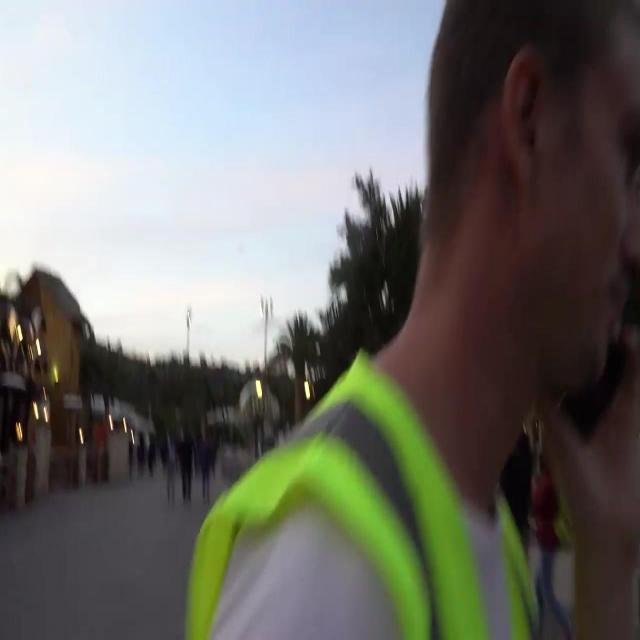Reflective-Jacket: (175, 339, 547, 636)
